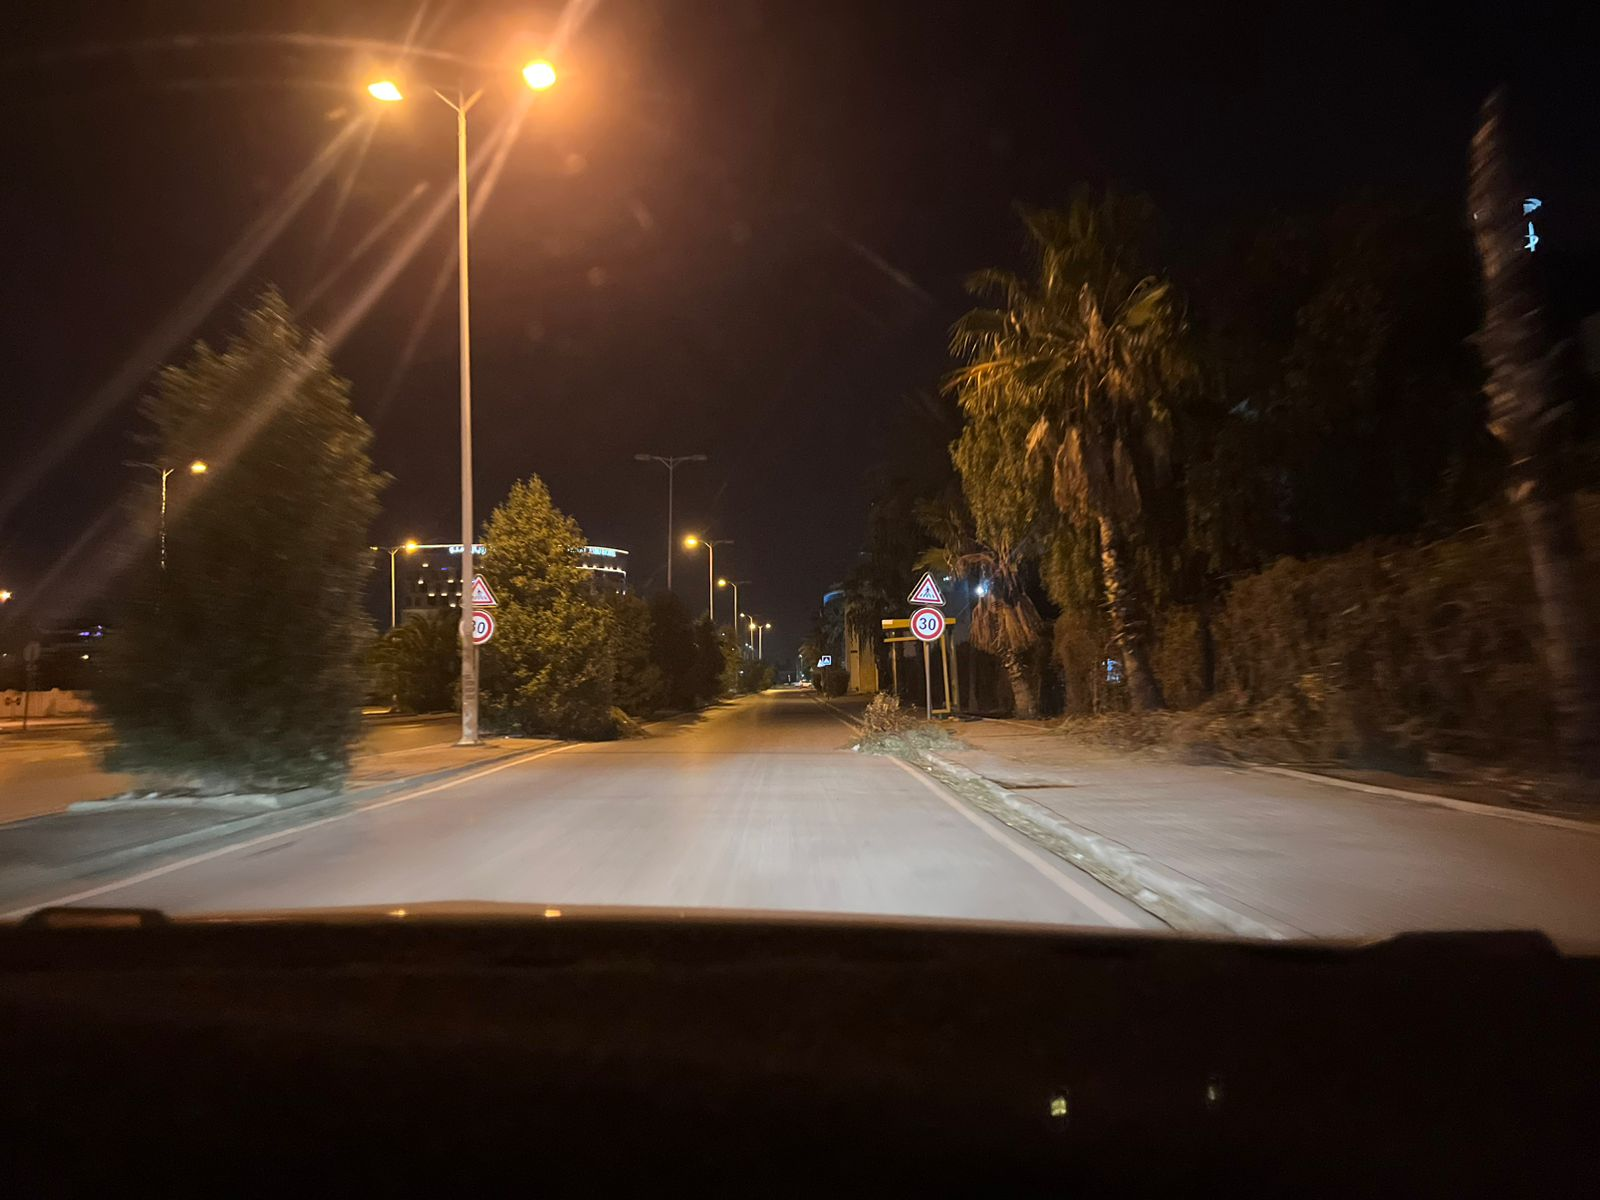SpeedLimit30: (908, 605, 945, 642)
